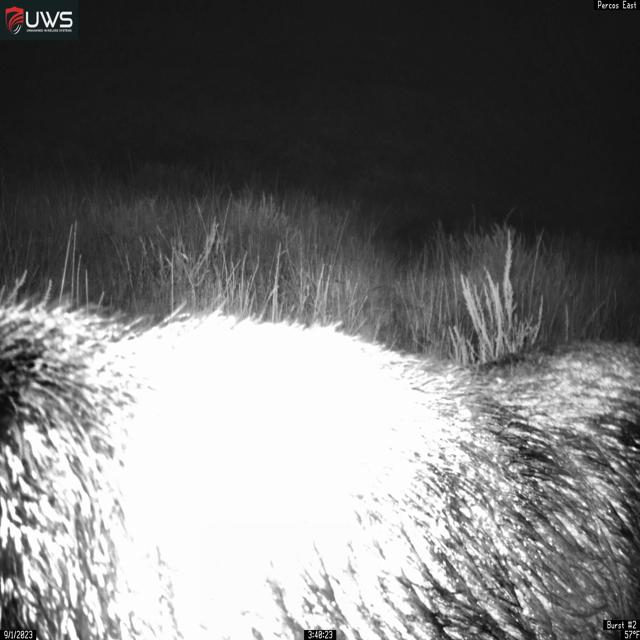pig: (0, 268, 640, 640)
